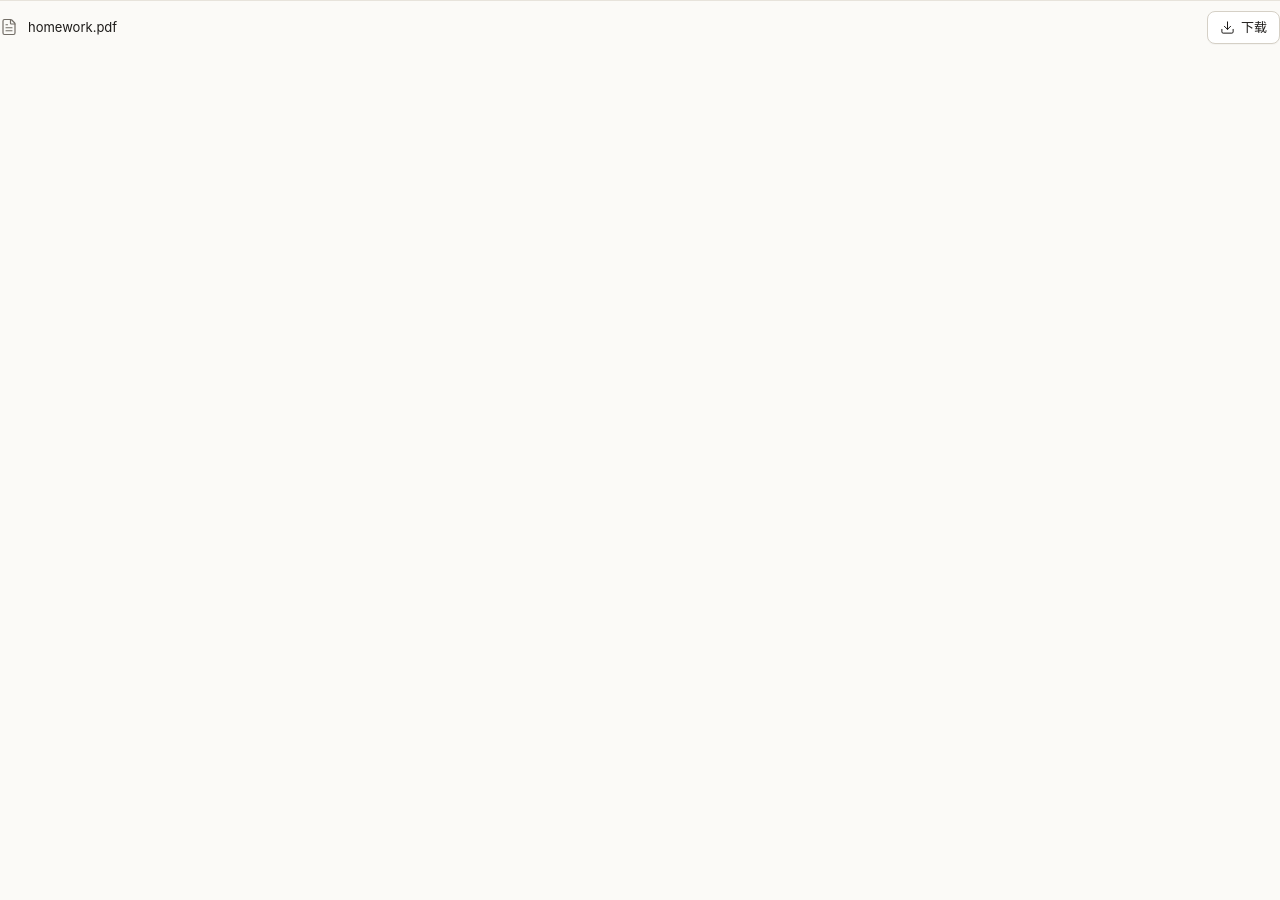
it: does not preview files after the account changes during download
The width and height of the screenshot is (1280, 900).
Click the button "homework.pdf": (73, 27) left=28, top=15, right=1197, bottom=40
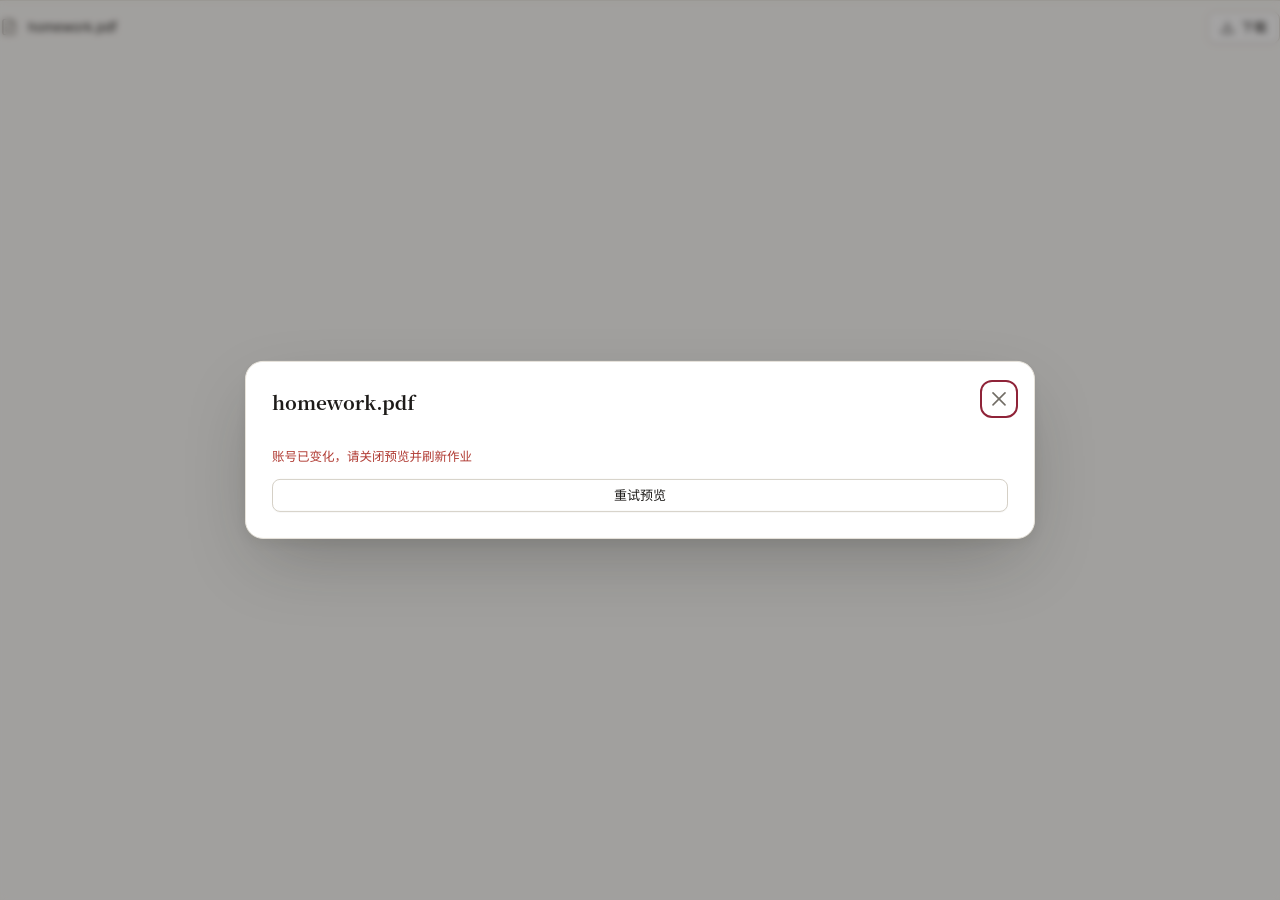
Expected: the message shows "账号已变化", left=272, top=449, right=472, bottom=464
